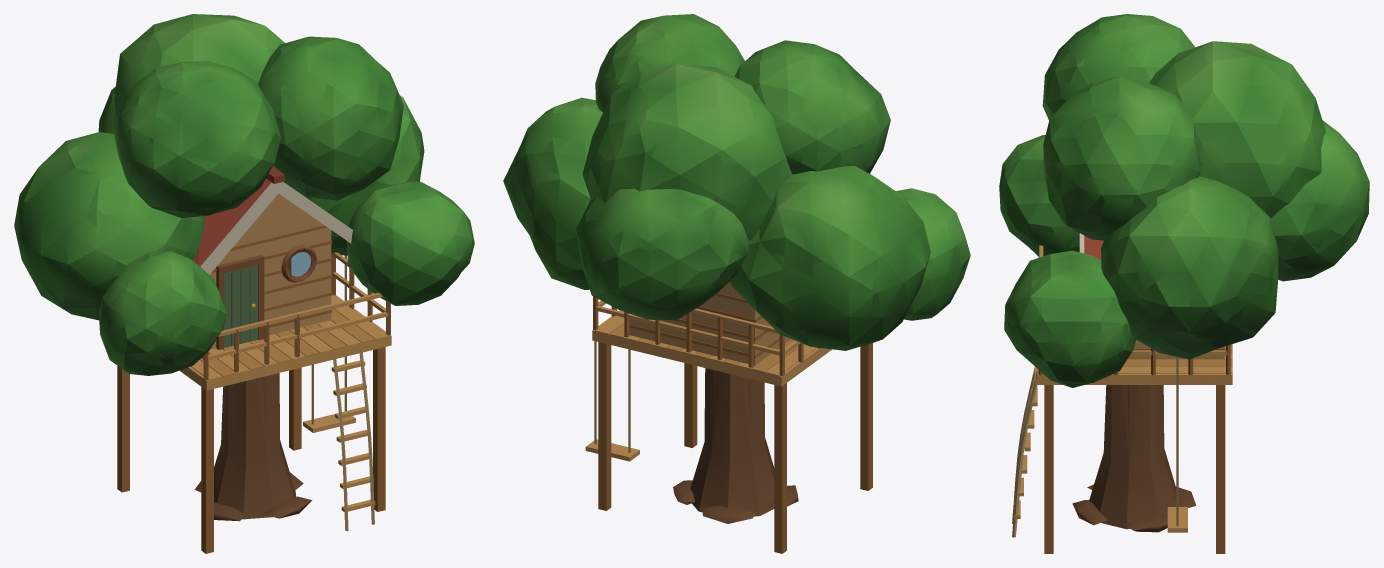
Rendered from treehouse.glb.
3 renders of one model, left to right at view 1: azimuth 30°, elevation 25°; view 2: azimuth 150°, elevation 25°; view 3: azimuth 270°, elevation 25°, orthographic. The views are drawn at different scales.
Visible parts, largest first — view 1: decor-treehouse, decor-treehouse-far; view 2: decor-treehouse, decor-treehouse-far; view 3: decor-treehouse, decor-treehouse-far.
Part boxes in pixels (box(x1,y1,x2,y2)): decor-treehouse: box(14, 14, 474, 553); decor-treehouse-far: box(14, 19, 473, 519); decor-treehouse: box(508, 14, 970, 553); decor-treehouse-far: box(503, 15, 967, 516); decor-treehouse: box(999, 14, 1369, 553); decor-treehouse-far: box(1000, 15, 1366, 530).
Bounding box in the file's own units: 5.88 × 6.5 × 4.75.
